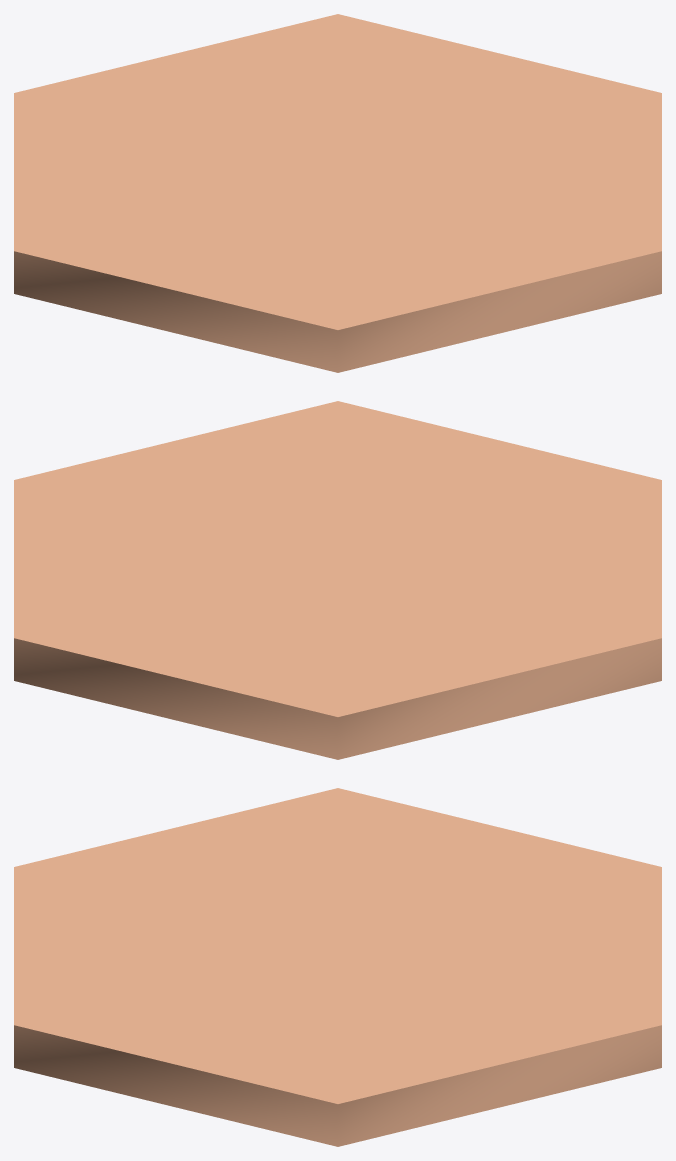
The model's file is orangehex-plain.fbx.
3 renders of one model, top to bottom at view 1: azimuth 30°, elevation 25°; view 2: azimuth 150°, elevation 25°; view 3: azimuth 270°, elevation 25°, orthographic.
Parts seen in each view (by area): view 1: Cylinder_1; view 2: Cylinder_1; view 3: Cylinder_1.
Boxes of the visible parts, x1,y1,x2,y2 form: Cylinder_1: (14, 14, 661, 372); Cylinder_1: (14, 401, 661, 759); Cylinder_1: (14, 788, 661, 1146).
Size of the model in its own units: 4547 by 287 by 3938.
